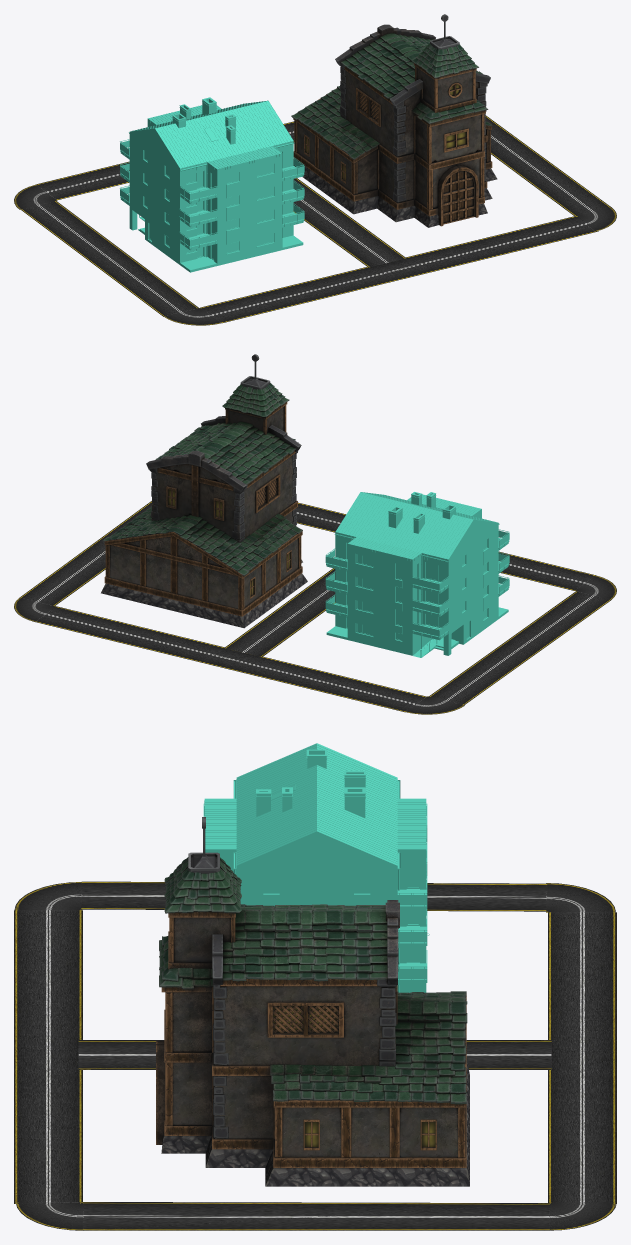
The model's file is edificios.obj.
3 renders of one model, top to bottom at view 1: azimuth 30°, elevation 25°; view 2: azimuth 150°, elevation 25°; view 3: azimuth 270°, elevation 25°, orthographic. The views are drawn at different scales.
Parts seen in each view (by area): view 1: medival_house, building_04, Plane_004_Plane_011, Plane_002_Plane_015, Plane_001_Plane_009, Circle_003, Circle_004, Circle_002; view 2: medival_house, building_04, Plane_004_Plane_011, Plane_002_Plane_015, Plane_001_Plane_009, Circle_003, Circle_001, Circle_004; view 3: medival_house, Plane_004_Plane_011, building_04, Plane_001_Plane_009, Plane_002_Plane_015, Circle_003, Circle_004, Circle_002, Circle_001.
Part boxes in pixels (left/top/right/bottom): medival_house: left=291, top=14, right=497, bottom=227; building_04: left=120, top=97, right=304, bottom=272; Plane_004_Plane_011: left=36, top=121, right=598, bottom=323; Plane_002_Plane_015: left=20, top=201, right=198, bottom=316; Plane_001_Plane_009: left=485, top=115, right=610, bottom=215; Circle_003: left=14, top=184, right=57, bottom=209; Circle_004: left=164, top=307, right=221, bottom=325; Circle_002: left=577, top=207, right=616, bottom=231; medival_house: left=101, top=354, right=307, bottom=628; building_04: left=325, top=492, right=509, bottom=657; Plane_004_Plane_011: left=32, top=502, right=595, bottom=712; Plane_002_Plane_015: left=429, top=591, right=611, bottom=705; Plane_001_Plane_009: left=20, top=501, right=151, bottom=605; Circle_003: left=406, top=696, right=464, bottom=714; Circle_001: left=14, top=597, right=55, bottom=621; Circle_004: left=575, top=575, right=616, bottom=599; medival_house: left=156, top=817, right=469, bottom=1186; Plane_004_Plane_011: left=14, top=910, right=616, bottom=1203; building_04: left=203, top=743, right=429, bottom=992; Plane_001_Plane_009: left=83, top=1202, right=549, bottom=1230; Plane_002_Plane_015: left=81, top=881, right=547, bottom=911; Circle_003: left=546, top=883, right=615, bottom=912; Circle_004: left=14, top=882, right=82, bottom=910; Circle_002: left=16, top=1202, right=83, bottom=1230; Circle_001: left=549, top=1202, right=616, bottom=1230.
Bounding box in the file's own units: 23.95 × 10 × 17.48.
